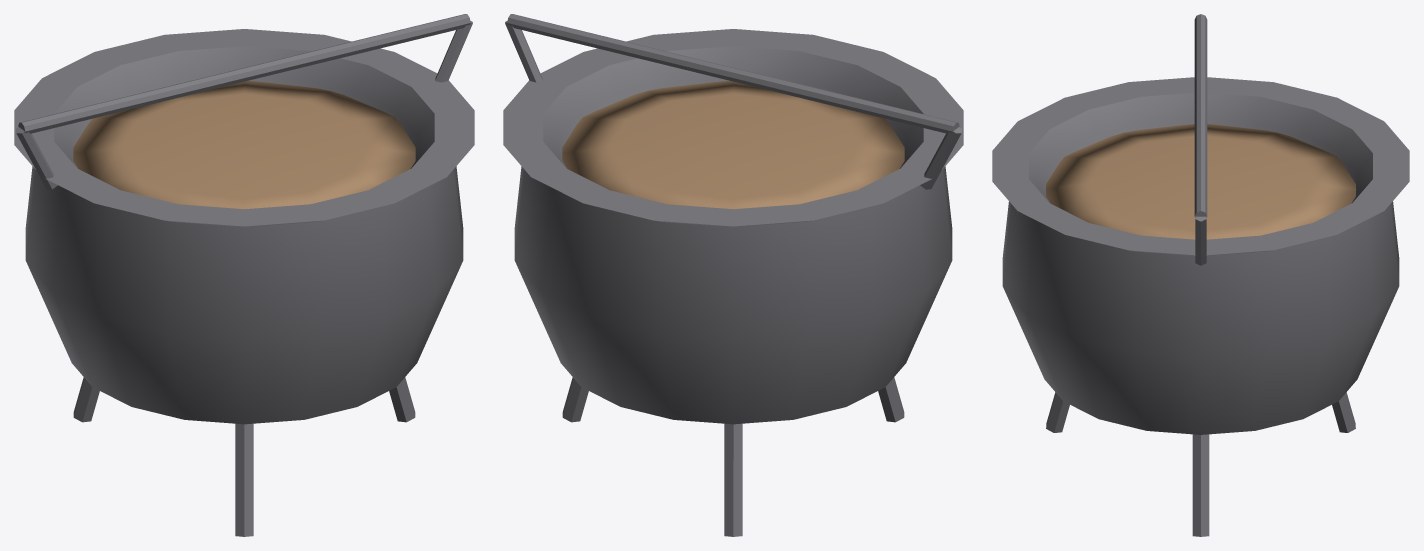
File: cauldron.glb
3 views of the same model, side by side, from view 1: azimuth 30°, elevation 25°; view 2: azimuth 150°, elevation 25°; view 3: azimuth 270°, elevation 25° (orthographic). The views are drawn at different scales.
Visible parts, largest first — view 1: pot, stew, handle, leg2, ear-1, ear1, leg0, leg1; view 2: pot, stew, handle, leg1, ear-1, ear1, leg0, leg2; view 3: pot, stew, handle, leg0, leg1, leg2, ear1.
Part boxes in pixels (x1,y1,x2,y2): pot: (14,29,474,424); stew: (73,81,415,209); handle: (18,14,470,133); leg2: (235,423,253,536); ear-1: (16,127,57,189); ear1: (435,21,472,82); leg0: (389,377,415,422); leg1: (73,377,99,422); pot: (503,29,963,424); stew: (562,81,904,209); handle: (507,14,959,133); leg1: (724,423,742,536); ear-1: (920,127,961,189); ear1: (505,21,542,82); leg0: (562,377,588,422); leg2: (878,377,904,422); pot: (992,77,1409,434); stew: (1045,124,1356,239); handle: (1194,14,1207,217); leg0: (1192,434,1209,536); leg1: (1332,392,1355,432); leg2: (1046,392,1069,432); ear1: (1195,216,1206,265).
Bounding box in the file's own units: 0.9015 × 0.7369 × 0.7878.
